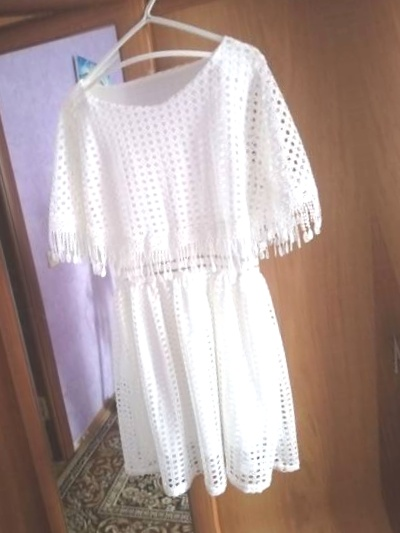Dress: (17, 9, 365, 525), (104, 517, 400, 533), (390, 0, 400, 461)
